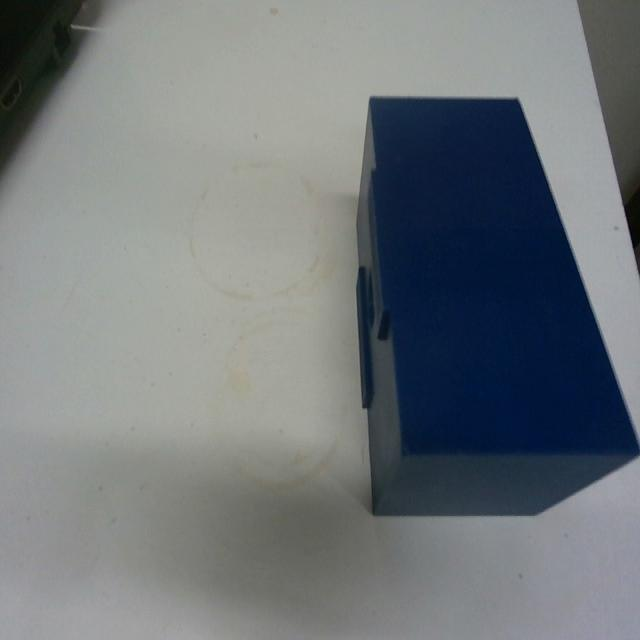Blue Cuboid: (353, 91, 639, 517)
